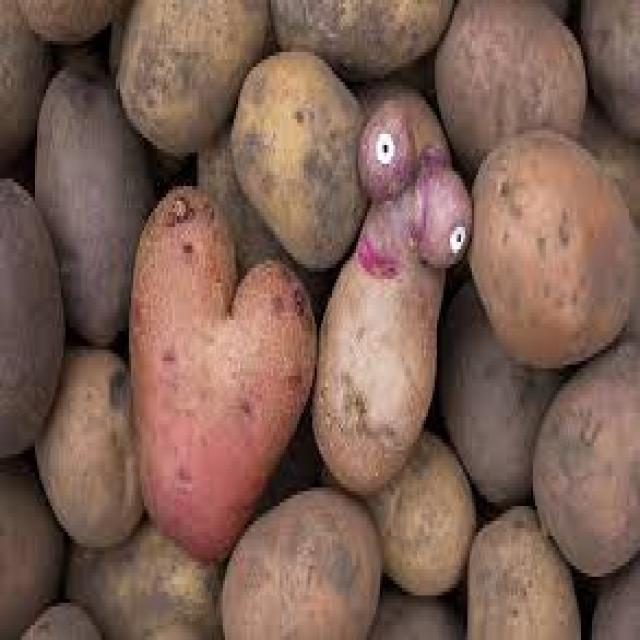Organik: (0, 0, 639, 640), (298, 70, 492, 548), (108, 186, 325, 585)
